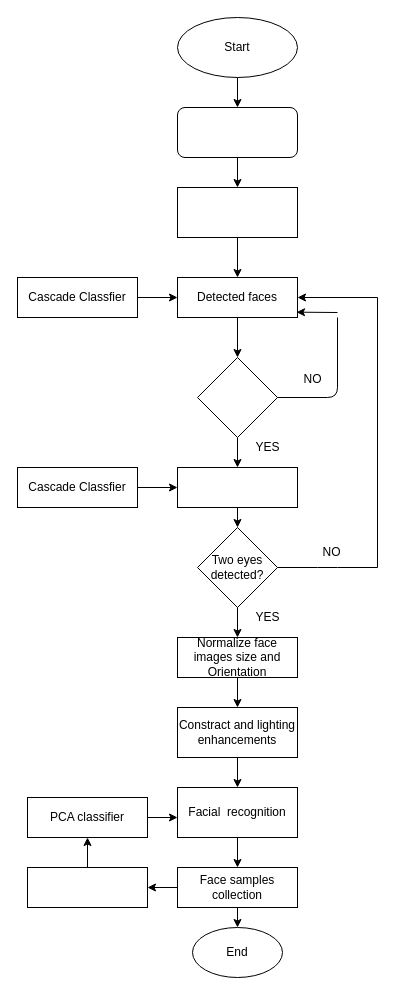
Image size: 403x995. Some labels were removed from this diagram. The centre of each missing label's shape, as x and y in pixels:
"Acquire new Image from Camera" belongs at (237,132).
"Convert Color to Gray Scale" belongs at (237,212).
"Detect eyes in face images" belongs at (237,487).
"Face Detected?" belongs at (237,397).
"Recognition training" belongs at (87,887).
